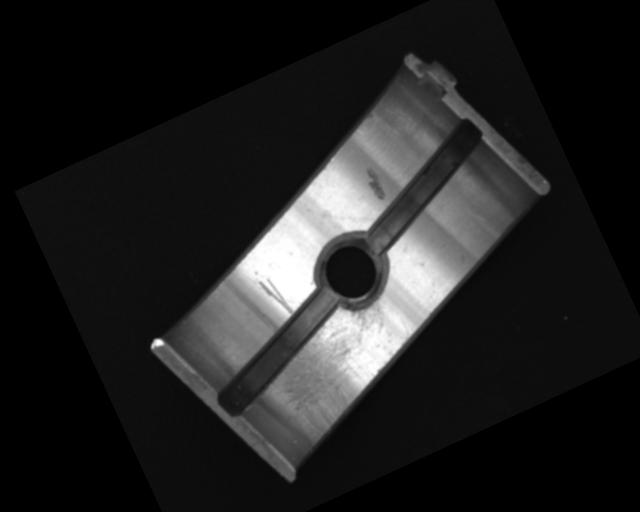bruise: (360, 163, 392, 204)
gap: (333, 115, 510, 260), (194, 286, 361, 419)
hole: (306, 226, 398, 317)
nick: (257, 272, 294, 323)
scratch: (257, 289, 434, 452)
